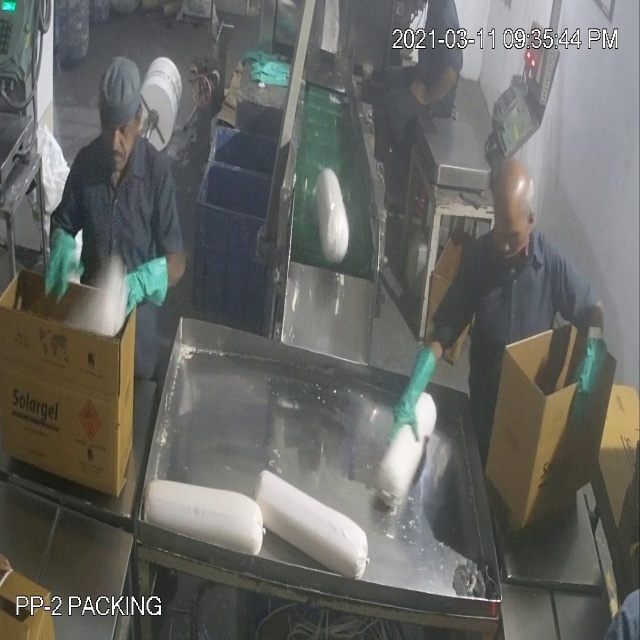Guantes: (381, 343, 445, 453), (34, 213, 87, 316), (561, 328, 610, 424)
Sin_guantes: (400, 58, 463, 115)
